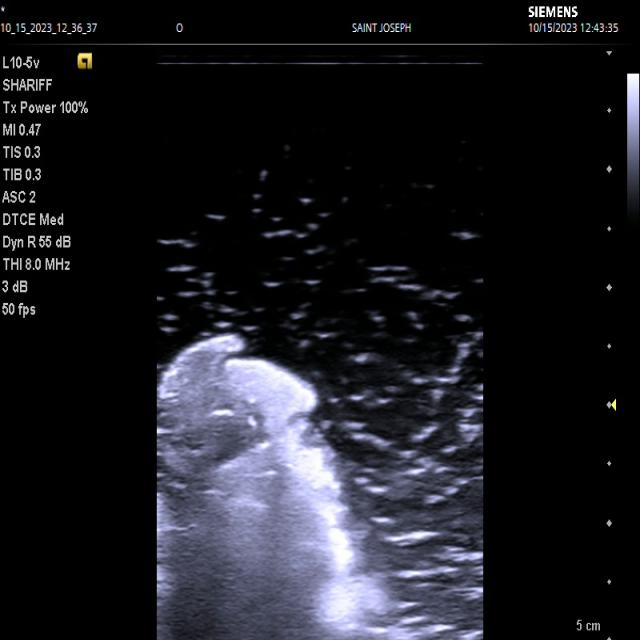tissue: (157, 334, 392, 640)
